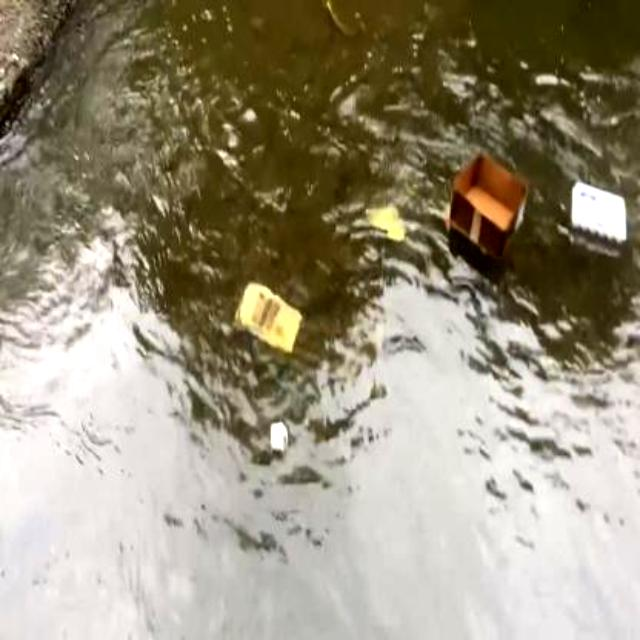Cardboard: (447, 148, 531, 262)
Metal: (362, 198, 410, 245)
Paper: (267, 416, 285, 456)
Plastic: (228, 273, 304, 359), (566, 176, 630, 250), (280, 420, 290, 452)
